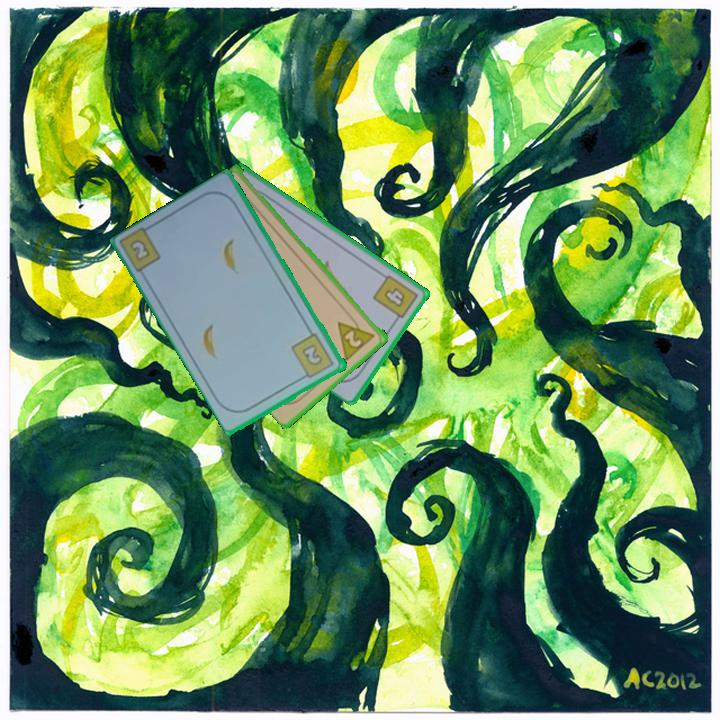2b: (288, 330, 337, 382), (126, 236, 154, 264)
2p: (334, 311, 379, 363)
4b: (369, 271, 421, 326)
